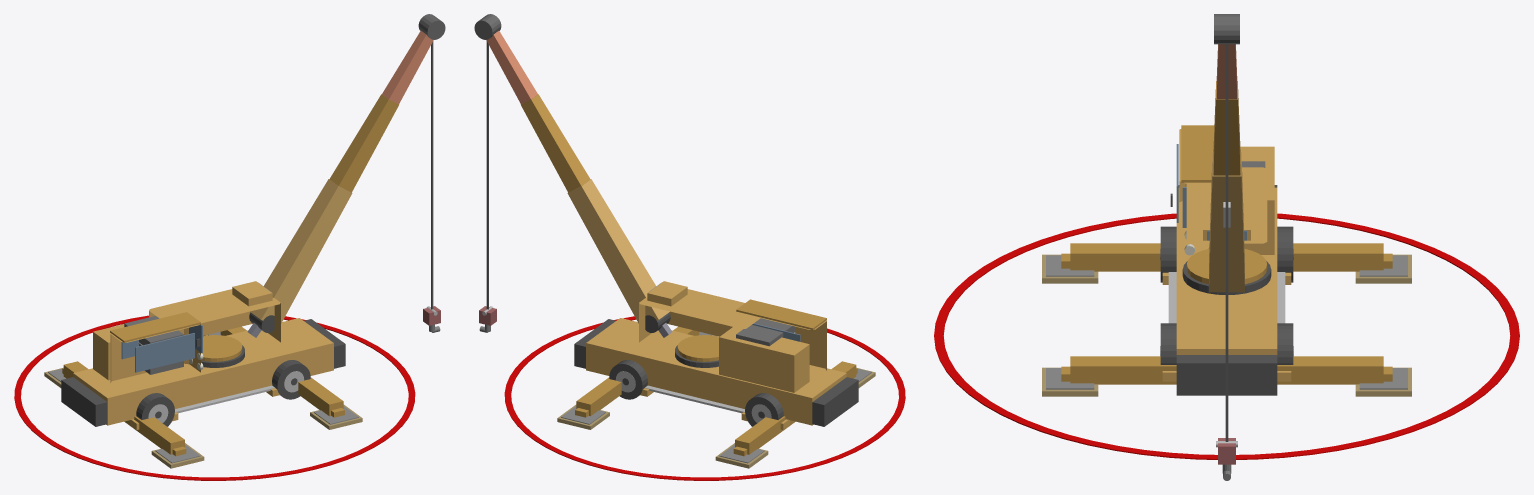
File: crane_KATO_CR-250RV.glb
3 renders of one model, left to right at view 1: azimuth 30°, elevation 25°; view 2: azimuth 150°, elevation 25°; view 3: azimuth 270°, elevation 25°, orthographic. The views are drawn at different scales.
Parts seen in each view (by area): view 1: crane; view 2: crane; view 3: crane.
Part boxes in pixels (x1,y1,x2,y2): crane: (14,14,445,480); crane: (474,14,905,480); crane: (934,14,1519,480).
Size of the model in its own units: 16.79 by 13.07 by 14.58.
